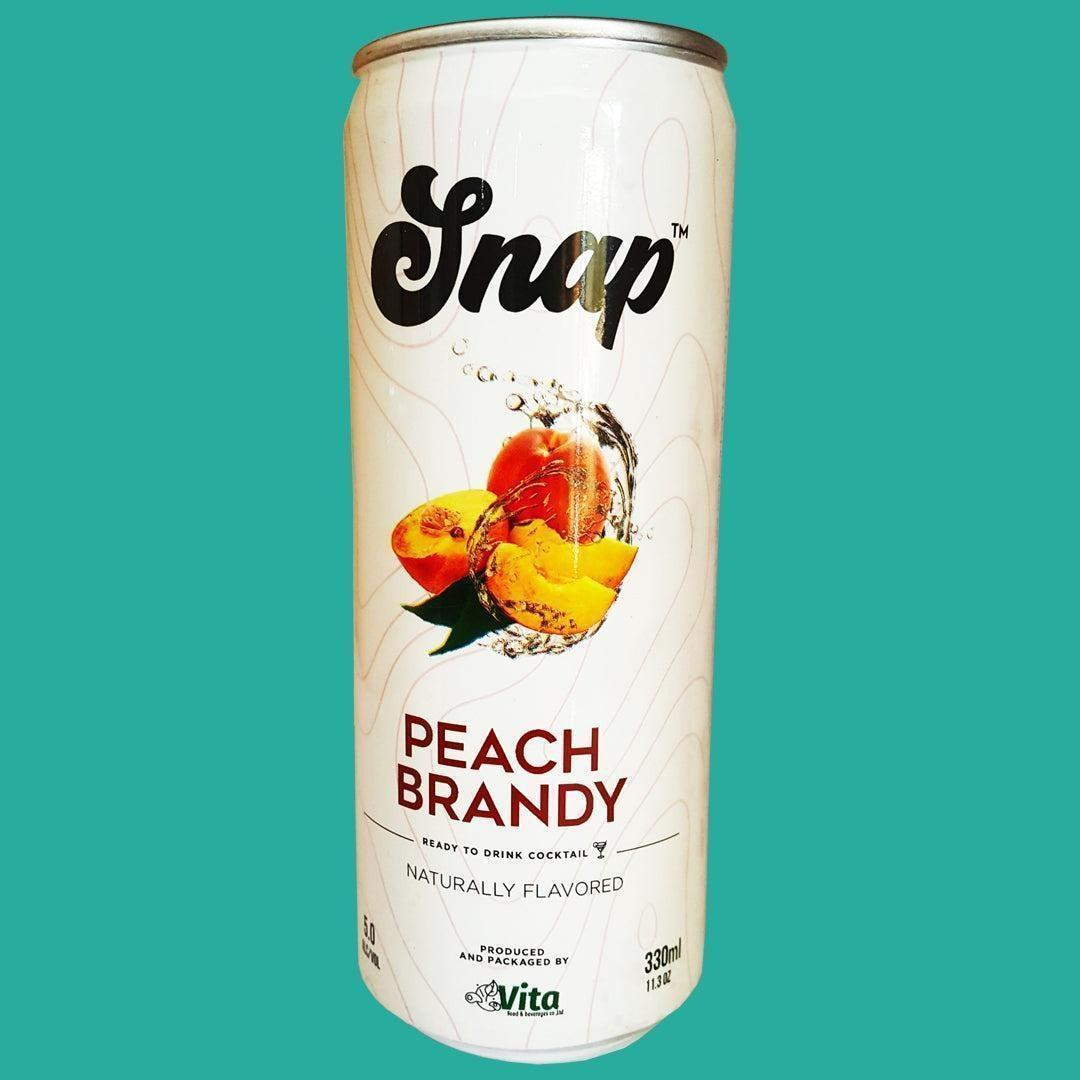tin can: (338, 8, 740, 1070)
